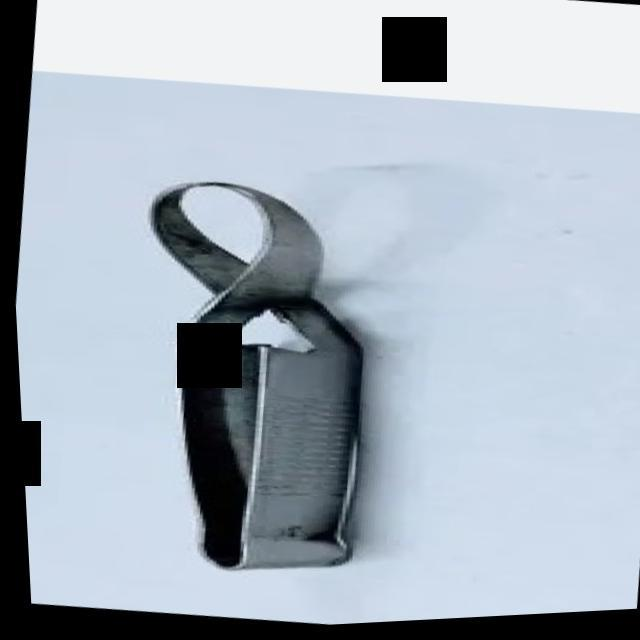Doyen Cross Action Towel Clamp: (82, 162, 410, 596)
